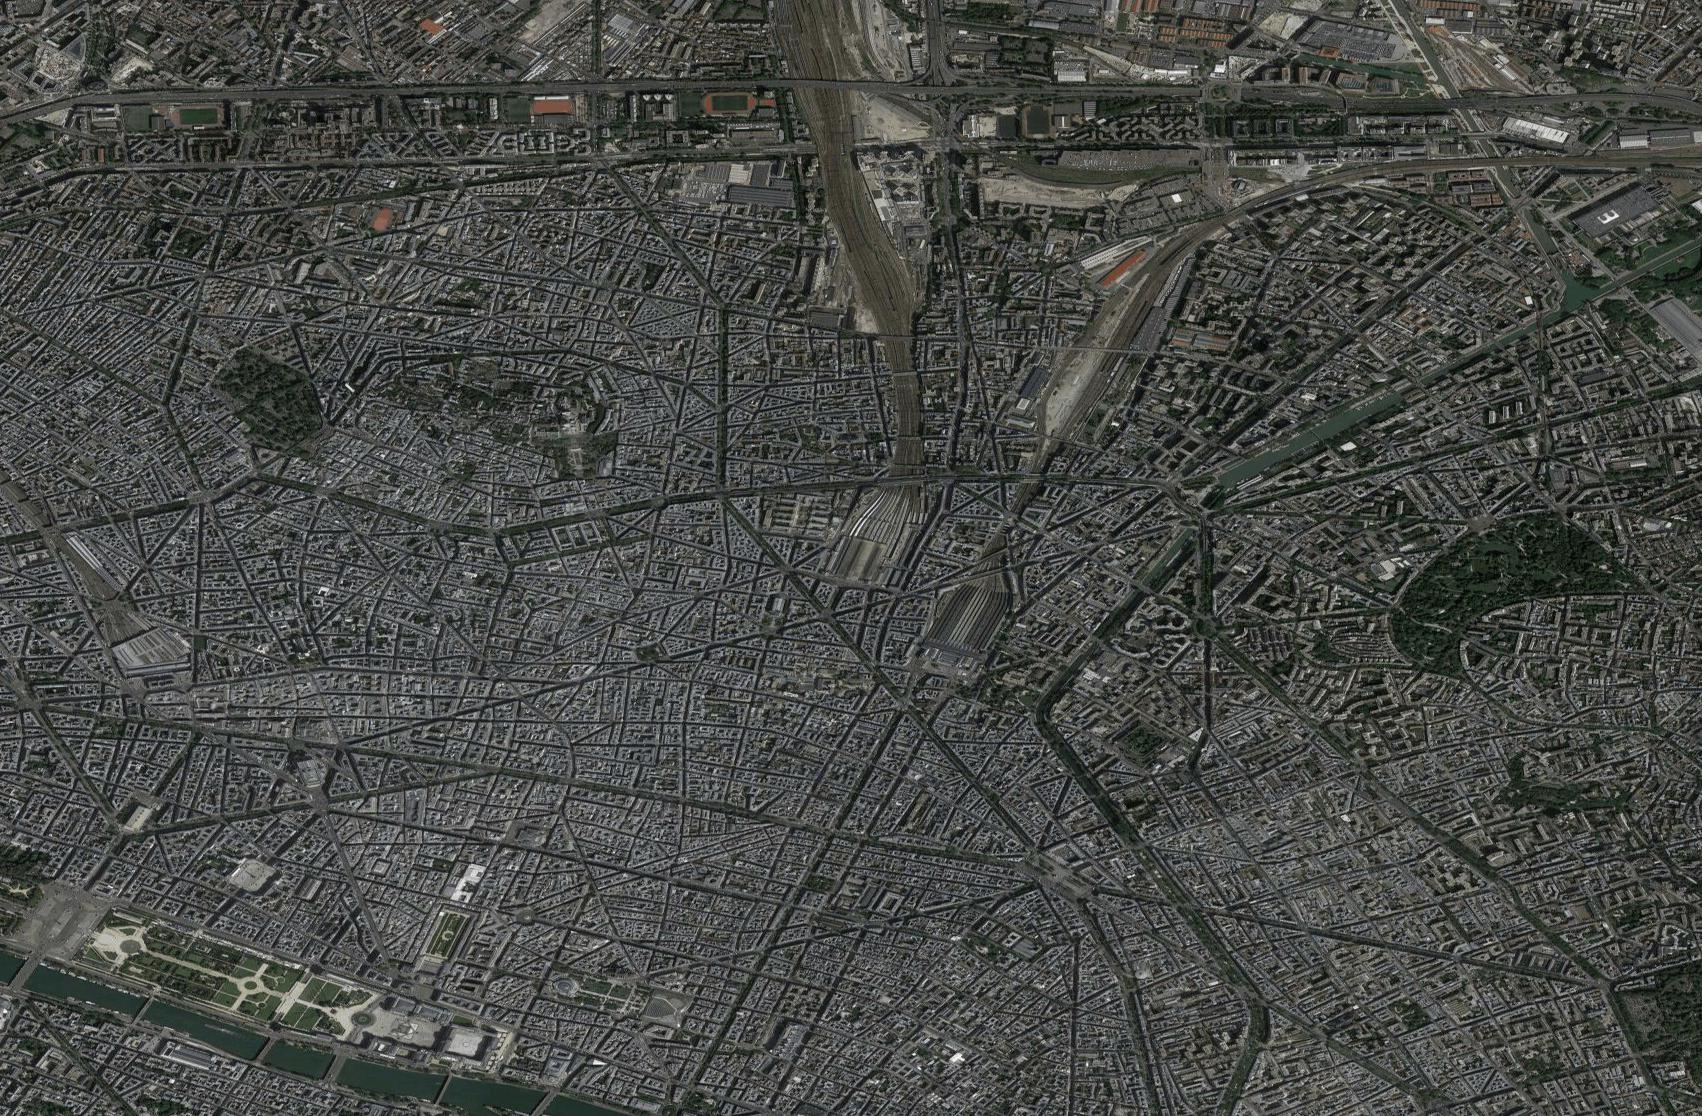bridge: (7, 957, 40, 991), (430, 1072, 454, 1109), (249, 1034, 275, 1062), (320, 1051, 346, 1080), (129, 994, 154, 1023), (530, 1087, 555, 1116)
industrial: (1498, 101, 1579, 159)
motorway: (957, 75, 1155, 103), (247, 77, 388, 110), (390, 73, 530, 106), (105, 78, 247, 110), (533, 72, 674, 103), (674, 67, 814, 98), (1, 87, 103, 125), (808, 76, 956, 101)
train_station: (817, 494, 914, 602), (923, 573, 1018, 673)
